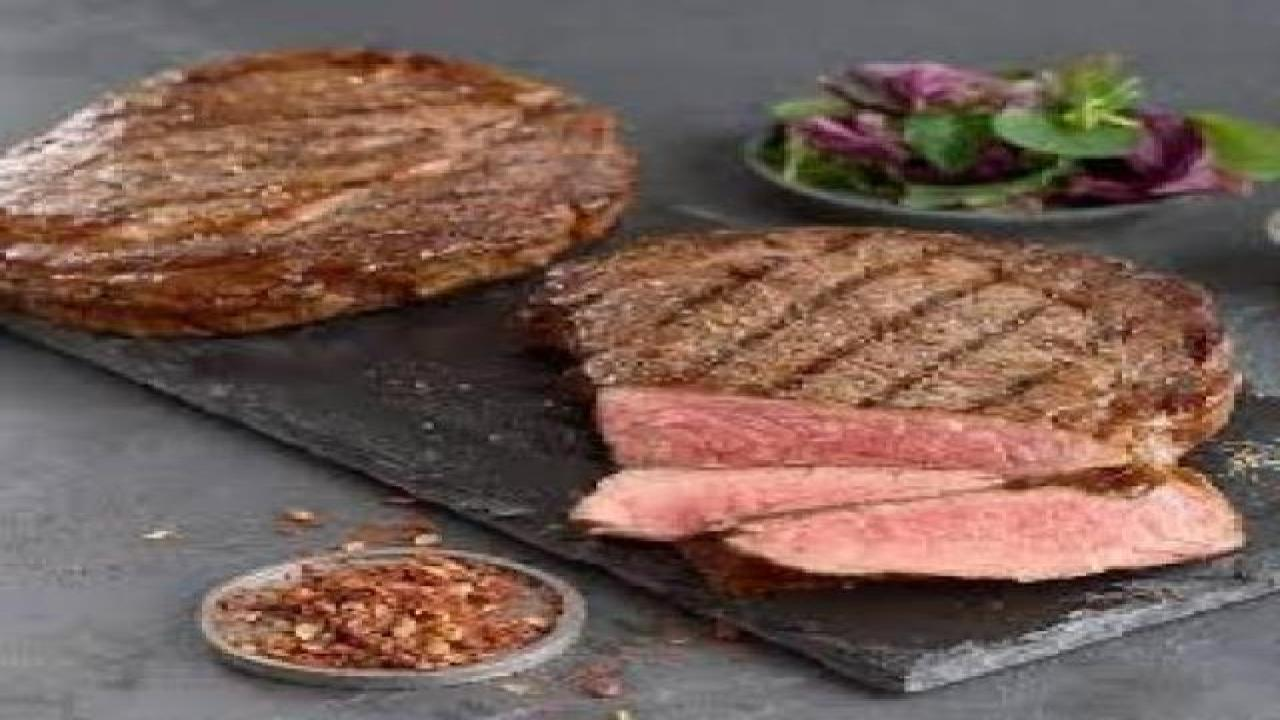done: (16, 29, 652, 376), (587, 216, 1278, 423)
raw: (534, 365, 1209, 489), (685, 491, 1249, 630), (526, 454, 1012, 552)
